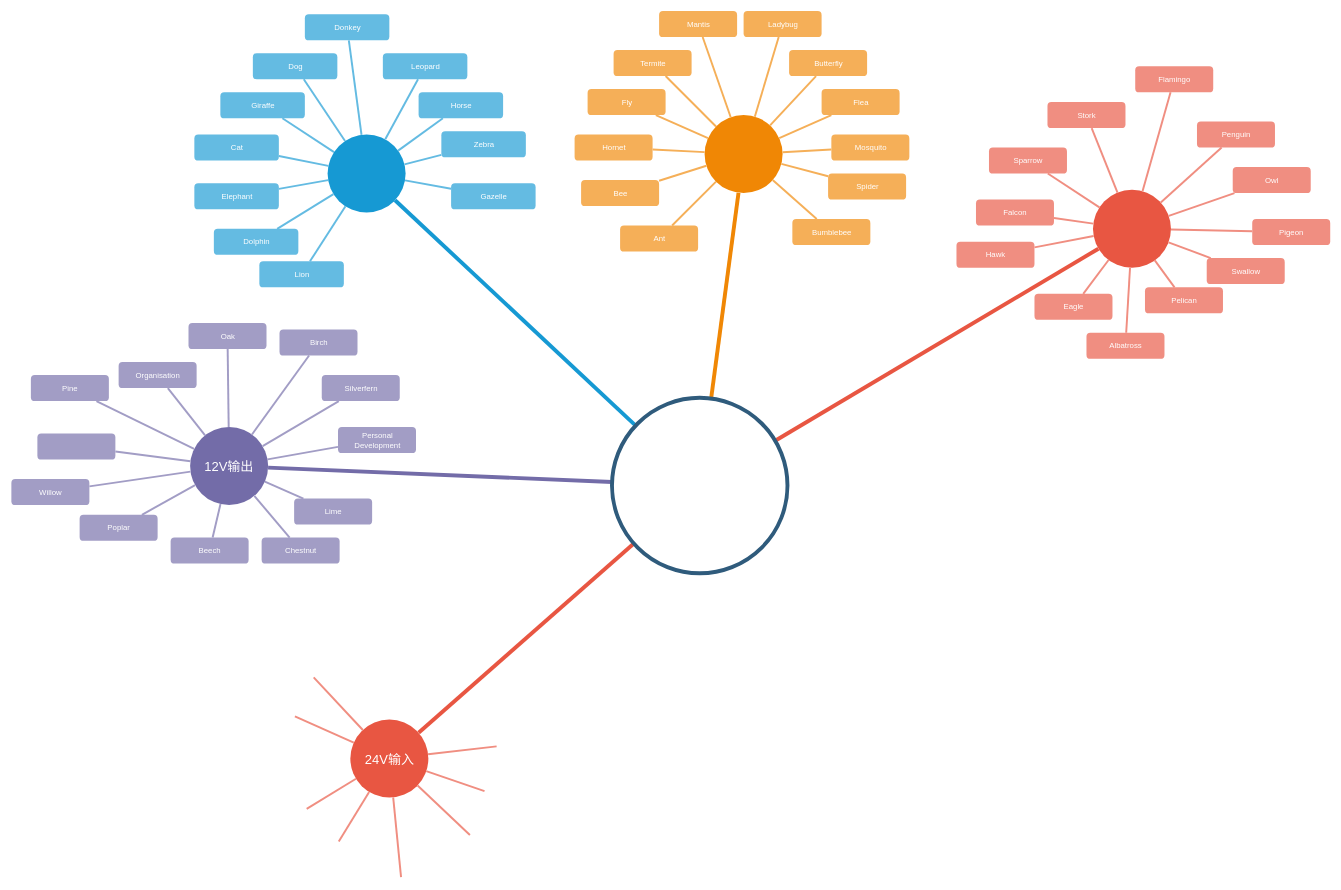
This 1341x890 diagram has some shape labels left out. Here are the shapes that lost their labels. From the top down, the box of each, then its label:
(327, 134, 405, 212): 8V输出
(704, 115, 782, 193): 5V输出
(1093, 189, 1171, 267): 3.3V输出
(37, 433, 115, 459): Acacia
(610, 396, 789, 575): 多输出电源
